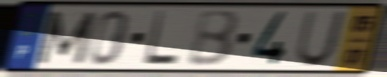0: (87, 8, 132, 68)
4: (249, 9, 288, 68)
B: (186, 9, 242, 69)
L: (140, 9, 180, 68)
M: (34, 9, 99, 66)
U: (293, 9, 349, 69)
